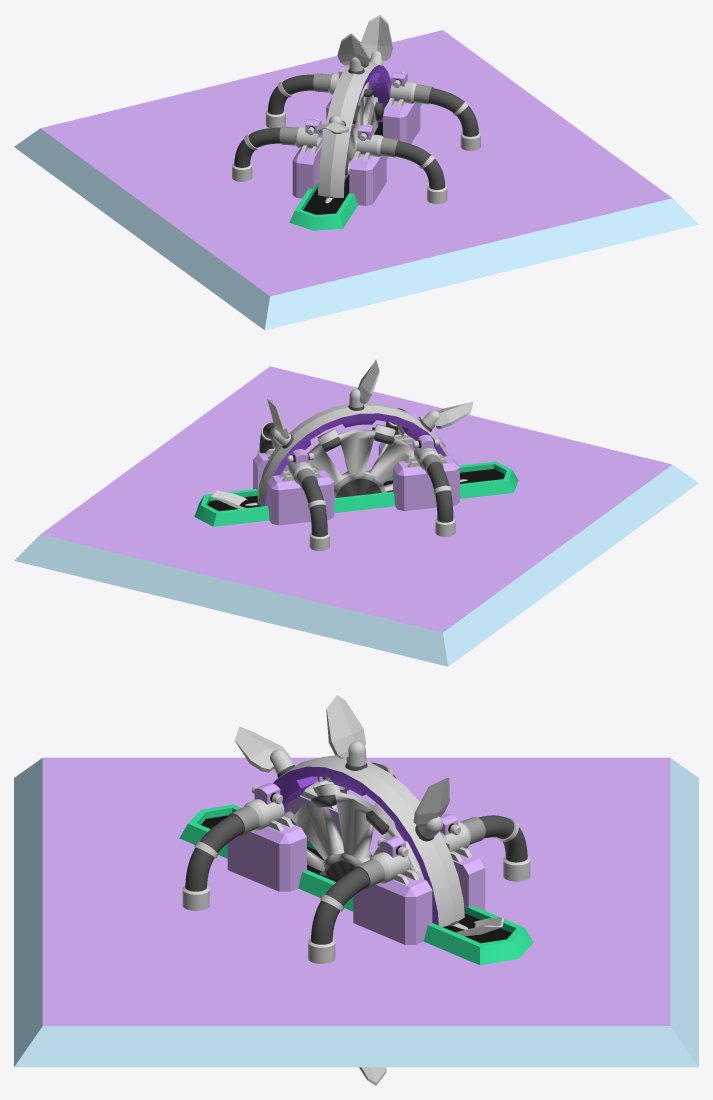
File: Haarvester fud.fbx
The picture shows the model from 3 angles, top to bottom: view 1: azimuth 30°, elevation 25°; view 2: azimuth 150°, elevation 25°; view 3: azimuth 270°, elevation 25°; orthographic projection. The views are drawn at different scales.
Visible parts, largest first — view 1: foundation1.001, pPipe28, pCylinder116.002, pCylinder116, harv1, pCylinder116.001, pCylinder116.003, pCube123, pCube128, pCylinder115, pCube127, pPlane33.005 (+1 smaller); view 2: foundation1.001, harv1, pCylinder115, pPipe28, pCube127.001, pCube127, pCylinder116.001, pCylinder116.003, pPlane33.007, pPlane33.006; view 3: foundation1.001, pPipe28, pCylinder115, harv1, pCube128, pCube123, pCylinder116.002, pCylinder116, pCylinder116.003, pPlane33.006, pCube127.001, pPlane33.007 (+1 smaller).
Part boxes in pixels (<box>): foundation1.001: <box>14,30,698,330</box>; pPipe28: <box>318,62,391,197</box>; pCylinder116.002: <box>356,125,447,203</box>; pCylinder116: <box>390,72,480,150</box>; harv1: <box>289,103,422,230</box>; pCylinder116.001: <box>232,119,322,181</box>; pCylinder116.003: <box>265,66,346,127</box>; pCube123: <box>349,154,386,205</box>; pCube128: <box>383,101,420,143</box>; pCylinder115: <box>344,81,383,179</box>; pCube127: <box>292,135,323,198</box>; pPlane33.005: <box>361,14,393,60</box>; foundation1.001: <box>14,366,698,666</box>; harv1: <box>194,461,518,526</box>; pCylinder115: <box>286,424,414,498</box>; pPipe28: <box>257,402,448,506</box>; pCube127.001: <box>267,470,334,525</box>; pCube127: <box>393,456,459,511</box>; pCylinder116.001: <box>414,435,455,536</box>; pCylinder116.003: <box>288,449,329,550</box>; pPlane33.007: <box>434,401,473,428</box>; pPlane33.006: <box>357,360,379,404</box>; foundation1.001: <box>14,757,698,1067</box>; pPipe28: <box>273,755,464,926</box>; pCylinder115: <box>284,784,424,880</box>; harv1: <box>179,804,533,965</box>; pCube128: <box>353,876,432,944</box>; pCube123: <box>227,823,306,891</box>; pCylinder116.002: <box>182,783,284,910</box>; pCylinder116: <box>308,836,410,963</box>; pCylinder116.003: <box>440,814,530,881</box>; pPlane33.006: <box>326,695,365,758</box>; pCube127.001: <box>453,854,485,910</box>; pPlane33.007: <box>235,726,290,772</box>.
Bounding box in the file's own units: 200 × 121 × 200.
2 materials, 2 textured.
